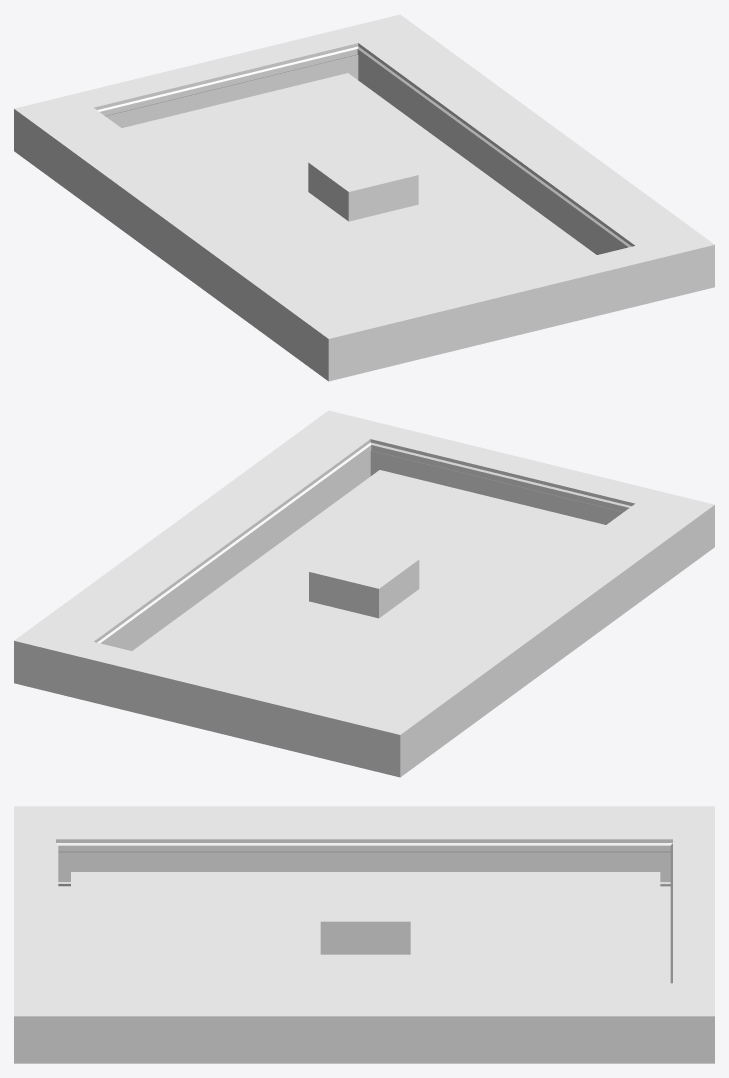
File: oneRoomAi.obj
3 renders of one model, top to bottom at view 1: azimuth 30°, elevation 25°; view 2: azimuth 150°, elevation 25°; view 3: azimuth 270°, elevation 25°, orthographic. The views are drawn at different scales.
Visible parts, largest first — view 1: room, nodes; view 2: room, nodes; view 3: room, nodes.
Boxes of the visible parts, <box> form: room: <box>14,14,714,381</box>; nodes: <box>122,73,596,310</box>; room: <box>14,410,714,777</box>; nodes: <box>132,470,605,706</box>; room: <box>14,806,714,1063</box>; nodes: <box>71,872,660,983</box>.
Size of what is drawn, in the model's own units: 54.42 by 6.75 by 76.77.
